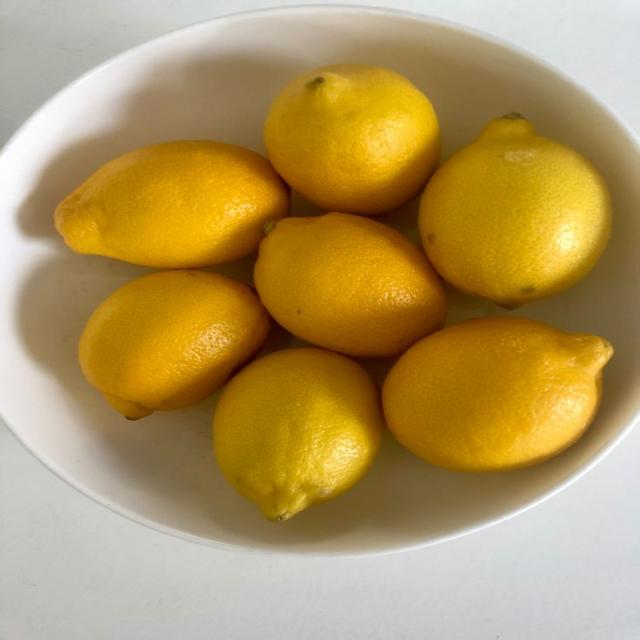lemon: (420, 114, 611, 308), (383, 318, 613, 471), (55, 141, 289, 268), (214, 349, 383, 520), (80, 271, 270, 419), (254, 213, 446, 356), (265, 64, 439, 215)
